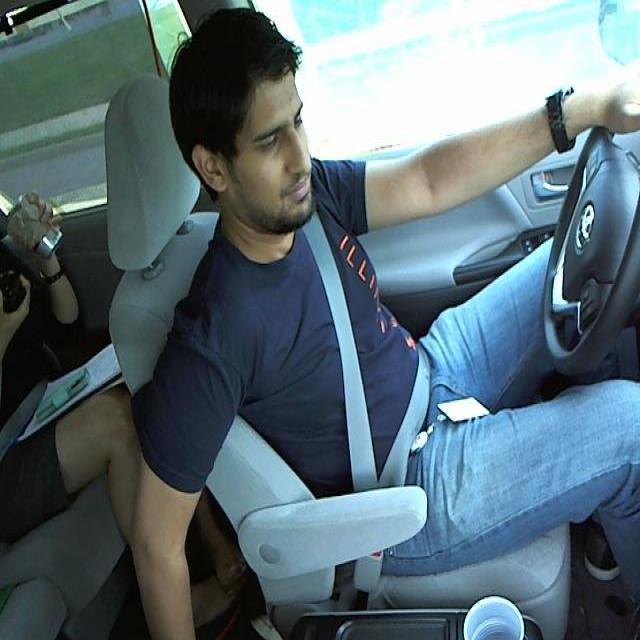seatbelt: (302, 244, 434, 477)
